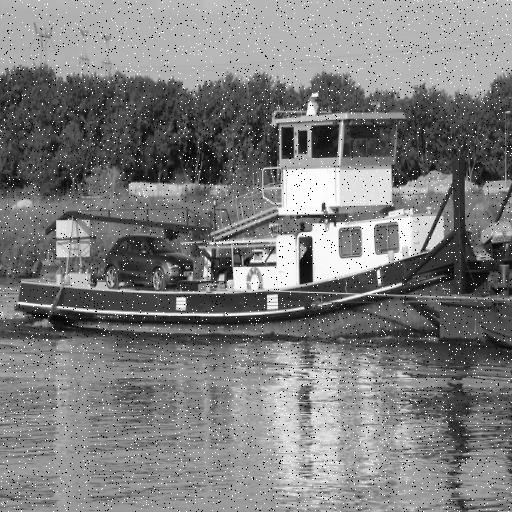tugboat: (10, 92, 512, 361)
